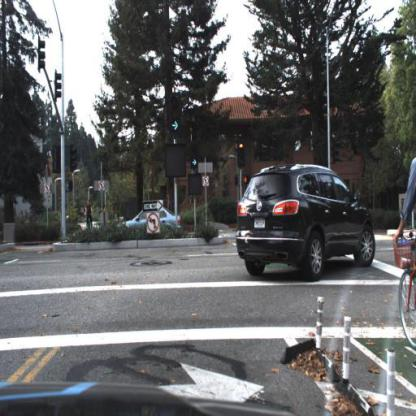biker: (86, 199, 96, 234)
car: (236, 163, 377, 285), (116, 204, 186, 243)
trafficLight: (169, 93, 182, 135), (192, 144, 200, 173)
trafficLight-Red: (239, 141, 246, 169)
